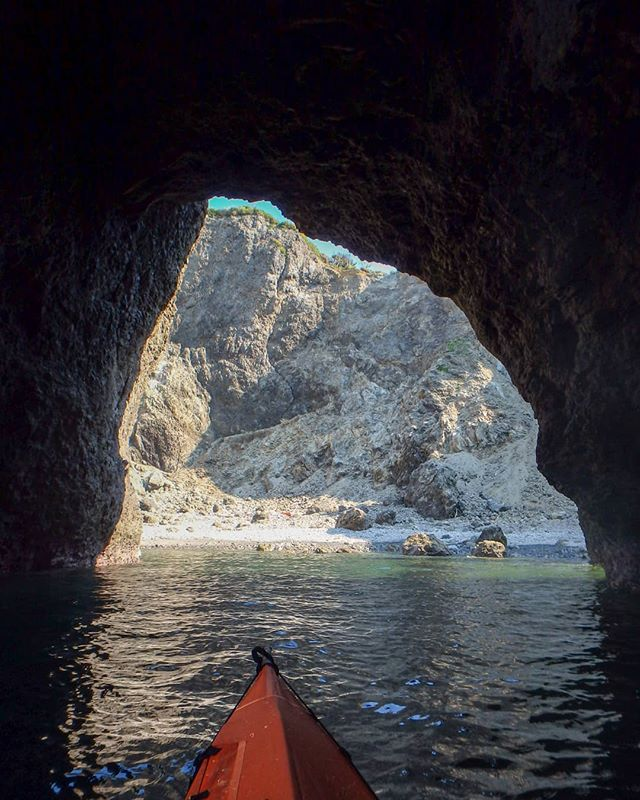mountain: (90, 194, 521, 520)
river: (22, 549, 640, 800)
